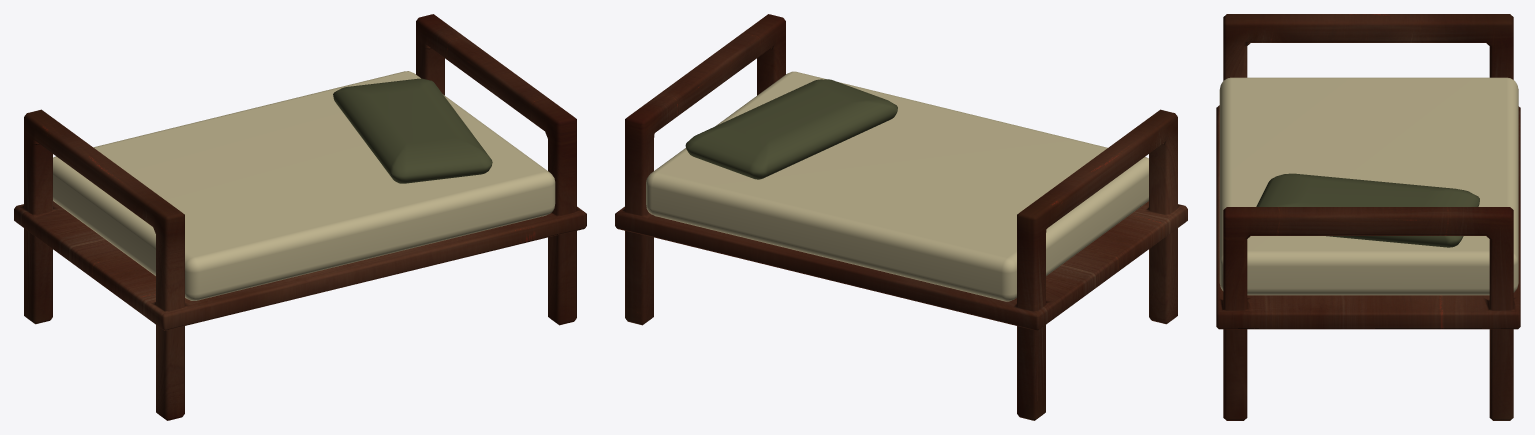
File: BedServant.fbx
3 renders of one model, left to right at view 1: azimuth 30°, elevation 25°; view 2: azimuth 150°, elevation 25°; view 3: azimuth 270°, elevation 25°, orthographic.
Parts seen in each view (by area): view 1: Mattress, Frame, Pillow3; view 2: Mattress, Frame, Pillow3; view 3: Mattress, Frame, Pillow3.
Part boxes in pixels (x1,y1,x2,y2): Mattress: (53,71,555,300); Frame: (14,14,586,420); Pillow3: (333,78,492,183); Mattress: (646,71,1148,301); Frame: (615,14,1187,420); Pillow3: (685,79,897,179); Mattress: (1219,77,1518,295); Frame: (1216,14,1520,420); Pillow3: (1256,173,1479,247).
Bounding box in the file's own units: 3.57 × 1.65 × 2.2.
